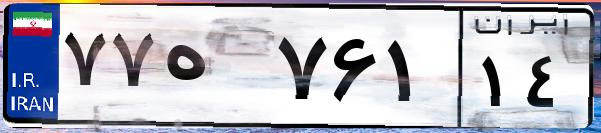1: (385, 28, 445, 110), (475, 38, 525, 113)
4: (525, 38, 570, 115)
6: (330, 28, 385, 110)
7: (270, 28, 330, 110), (57, 26, 110, 100), (110, 28, 158, 98)
ه: (158, 20, 270, 120)
